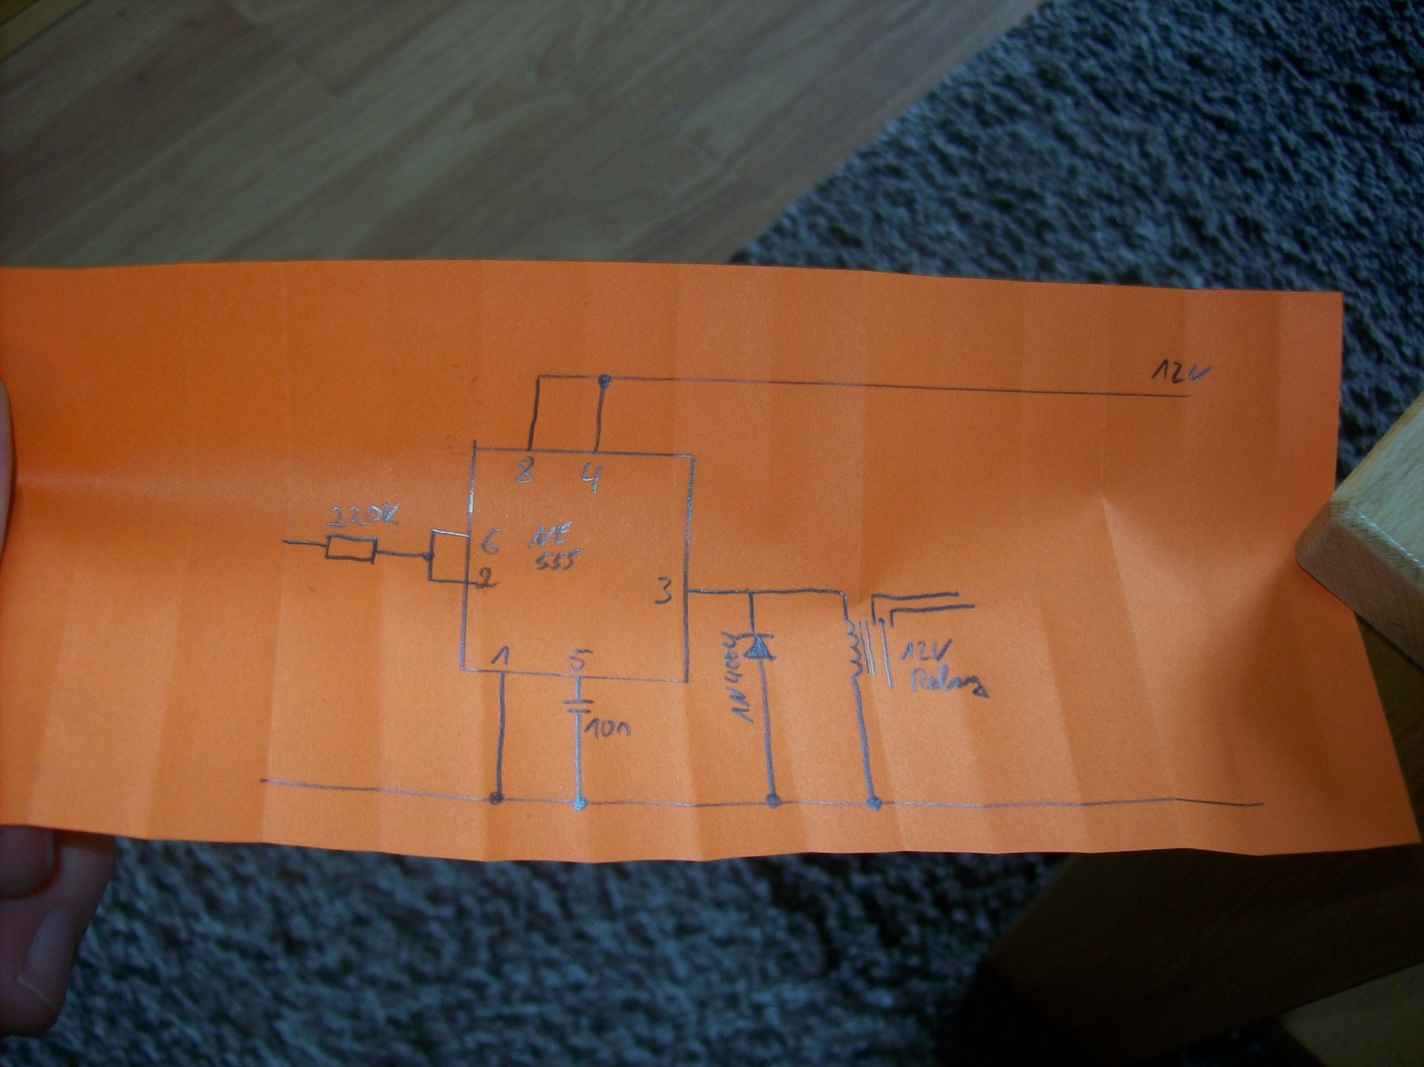capacitor.unpolarized: (560, 694, 598, 718)
diode: (739, 630, 779, 664)
integrated_cricuit.ne555: (455, 438, 699, 689)
junction: (762, 790, 784, 811), (569, 794, 592, 813), (865, 792, 885, 811), (486, 789, 508, 806), (595, 371, 613, 390), (421, 549, 437, 563), (835, 587, 850, 600), (427, 525, 440, 538), (744, 586, 758, 599), (867, 590, 879, 602), (532, 371, 545, 383), (425, 573, 436, 585), (888, 605, 899, 615)
relay: (843, 615, 897, 680)
resistor: (322, 532, 381, 567)
terminal: (255, 773, 274, 787), (1255, 796, 1271, 811), (967, 600, 981, 613), (1179, 390, 1194, 402), (884, 678, 896, 692), (951, 587, 964, 600), (278, 536, 290, 548)
text: (717, 629, 754, 725), (525, 519, 586, 575), (908, 662, 988, 699), (327, 500, 401, 530), (1150, 358, 1214, 386), (899, 635, 953, 662), (583, 716, 631, 741), (651, 572, 676, 607), (510, 454, 536, 488), (579, 460, 603, 494), (566, 644, 594, 672), (480, 525, 503, 557), (474, 565, 501, 592), (488, 643, 514, 667)
